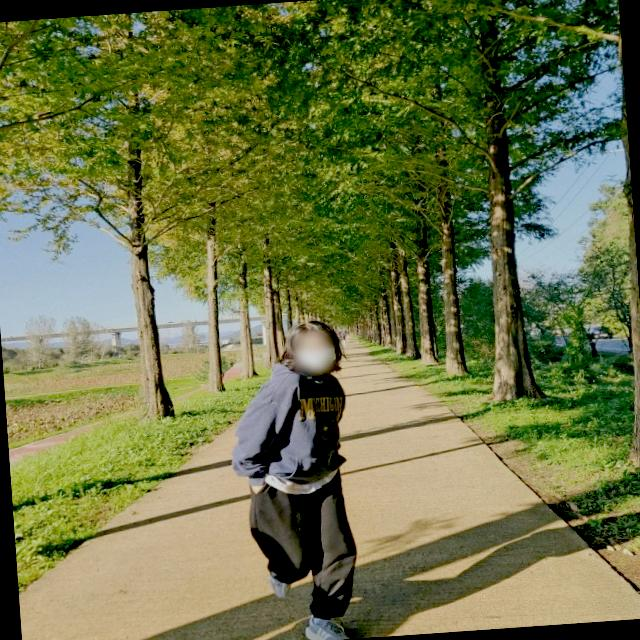hoodies: (228, 357, 356, 494)
trainingpants: (246, 470, 360, 626)
